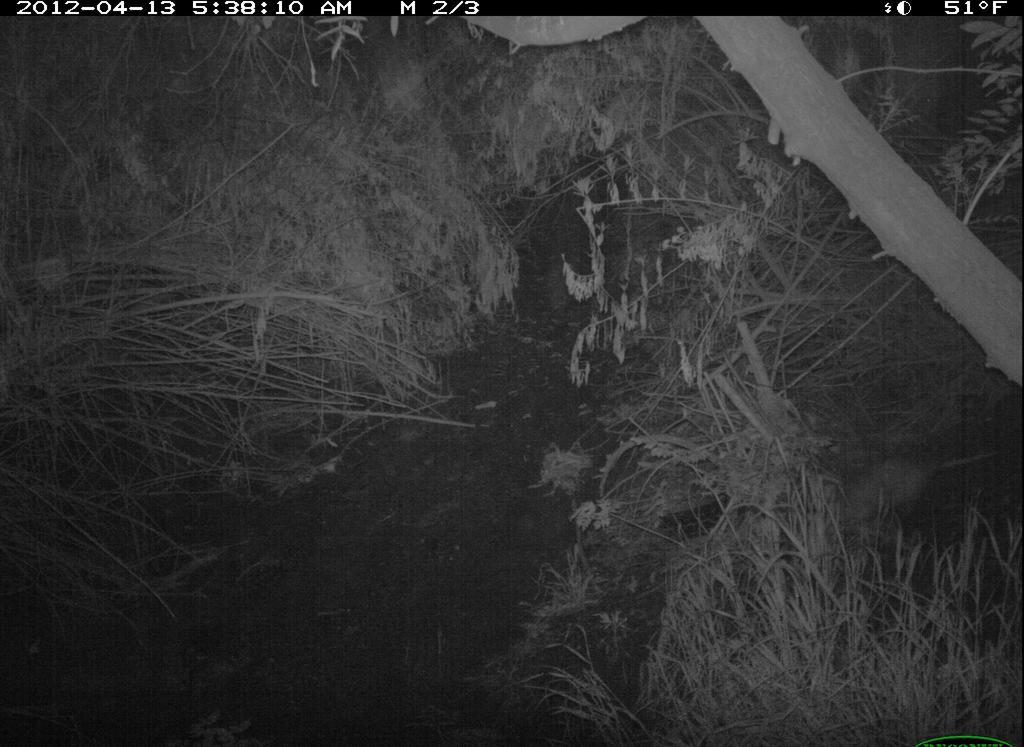opossum: (825, 437, 1024, 541)
